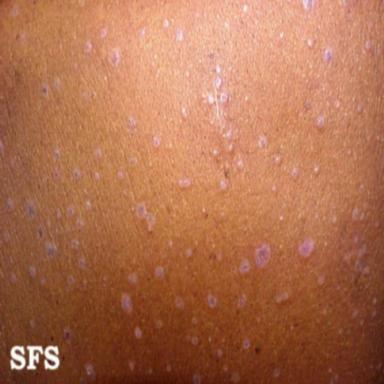lichen: (137, 203, 155, 232), (254, 244, 271, 268), (299, 238, 313, 258), (356, 247, 366, 271), (121, 294, 131, 313), (275, 292, 289, 304), (25, 201, 35, 217), (46, 243, 57, 257), (110, 49, 119, 66), (85, 364, 95, 379), (239, 261, 250, 274), (301, 0, 316, 9), (217, 208, 227, 221), (175, 297, 184, 311), (323, 48, 332, 62), (127, 273, 138, 284), (207, 295, 216, 308), (179, 179, 191, 188), (64, 328, 71, 343), (41, 84, 49, 97), (238, 294, 246, 307), (242, 339, 251, 350), (231, 373, 240, 384), (155, 267, 163, 279), (134, 327, 142, 339), (258, 136, 266, 148), (175, 29, 183, 41), (128, 118, 136, 130), (85, 41, 92, 53), (78, 257, 85, 269), (317, 116, 324, 128), (29, 266, 36, 278), (11, 6, 19, 16), (193, 374, 201, 384), (220, 92, 227, 103), (100, 28, 107, 39), (352, 209, 359, 220), (54, 77, 60, 89), (215, 77, 221, 89), (7, 198, 13, 210), (153, 137, 160, 147), (365, 41, 372, 51), (307, 38, 314, 48), (139, 27, 145, 38), (181, 107, 187, 118), (53, 149, 60, 158), (130, 157, 137, 166), (67, 276, 74, 285), (220, 181, 227, 190), (191, 337, 198, 346), (3, 233, 10, 242), (29, 320, 36, 329), (10, 274, 17, 283), (186, 249, 193, 258), (73, 169, 79, 179), (95, 148, 101, 158), (275, 155, 281, 165), (291, 168, 297, 178), (55, 209, 61, 219), (85, 200, 91, 210), (117, 171, 124, 179), (94, 172, 100, 181), (67, 207, 73, 216), (163, 19, 169, 28), (19, 33, 25, 42), (274, 369, 280, 378), (226, 130, 232, 139), (237, 161, 244, 168), (156, 321, 163, 328), (77, 219, 83, 227), (313, 166, 319, 174), (38, 228, 43, 237), (53, 172, 59, 179), (72, 240, 79, 246), (212, 149, 218, 156), (305, 101, 310, 109), (209, 96, 214, 104), (228, 144, 233, 152), (192, 317, 197, 324)
